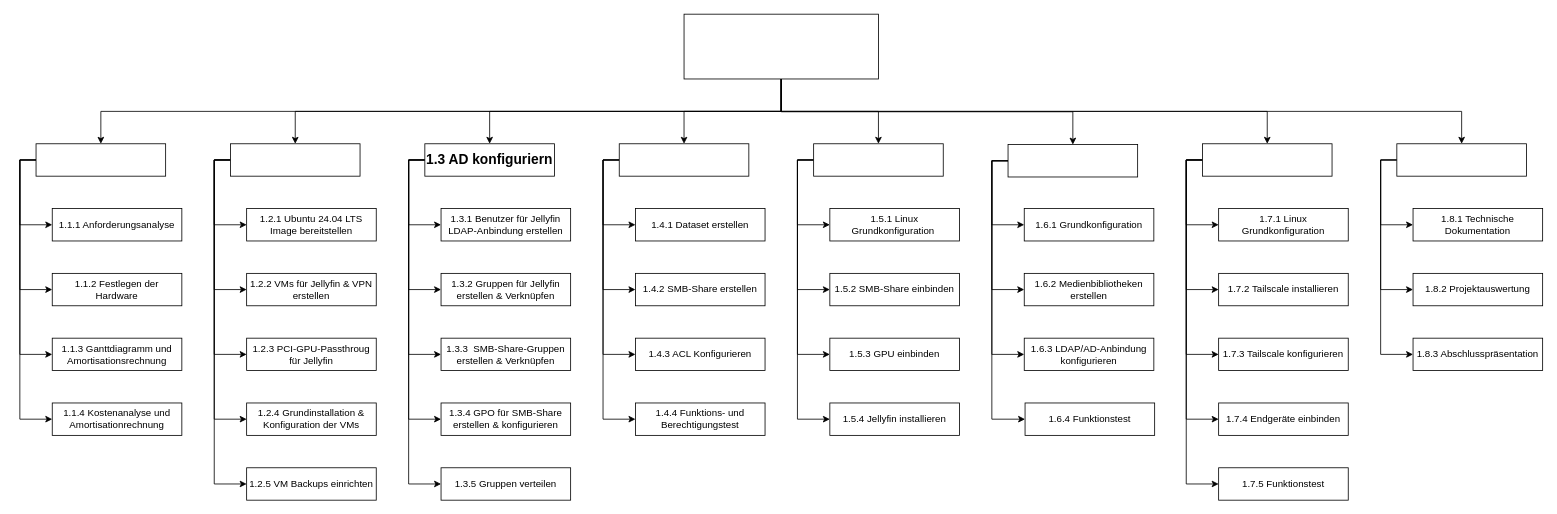
The diagram is 1557 pixels wide and 514 high, and some of its shapes have lost their labels. Each missing label, with the centre of its shape:
"1 Projekt: Nextcloudumgebung" goes at pixel 780 46.
"1.1 Planung" goes at pixel 100 159.
"1.2 Proxmox VE VMs bereitstellen" goes at pixel 295 159.
"1.4 SMB-Share konfigurieren" goes at pixel 683 159.
"1.5 Jellyfin installieren" goes at pixel 878 159.
"1.6 Jellyfin konfigurieren" goes at pixel 1072 160.
"1.7 VPN installieren & einrichten" goes at pixel 1267 159.
"1.8 Dokumentation" goes at pixel 1461 159.
